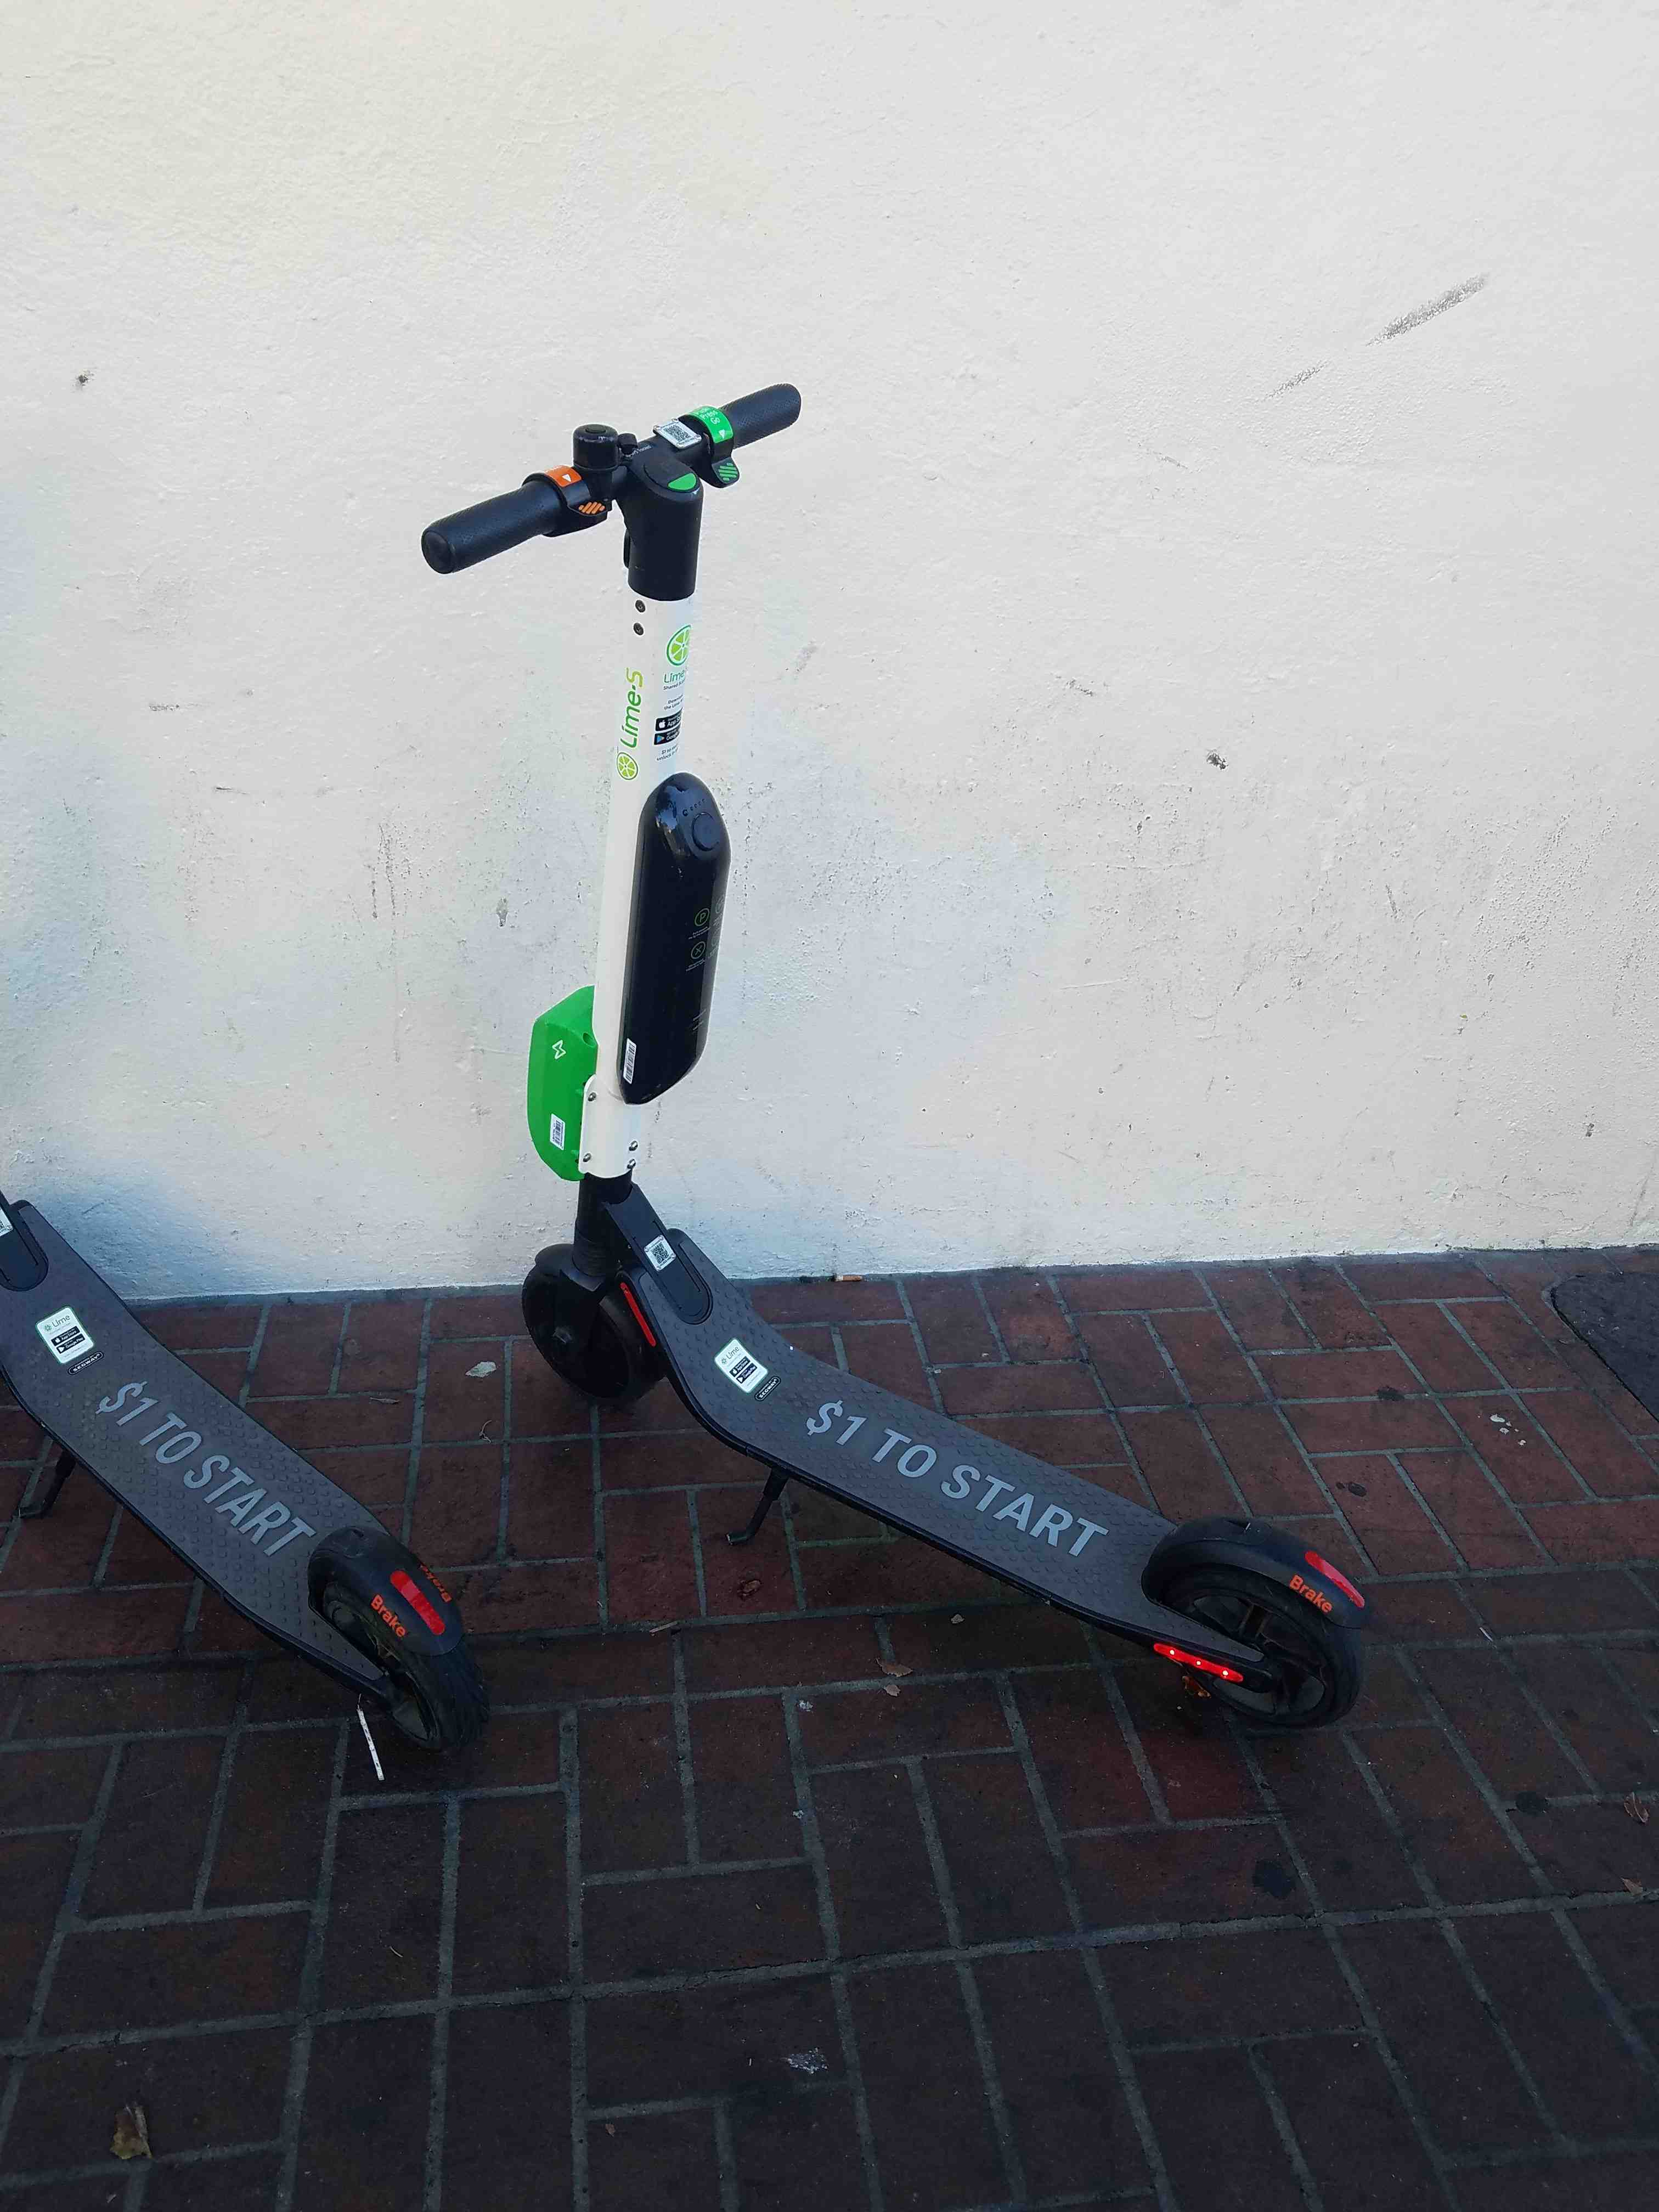scooter: (406, 343, 1389, 1759)
